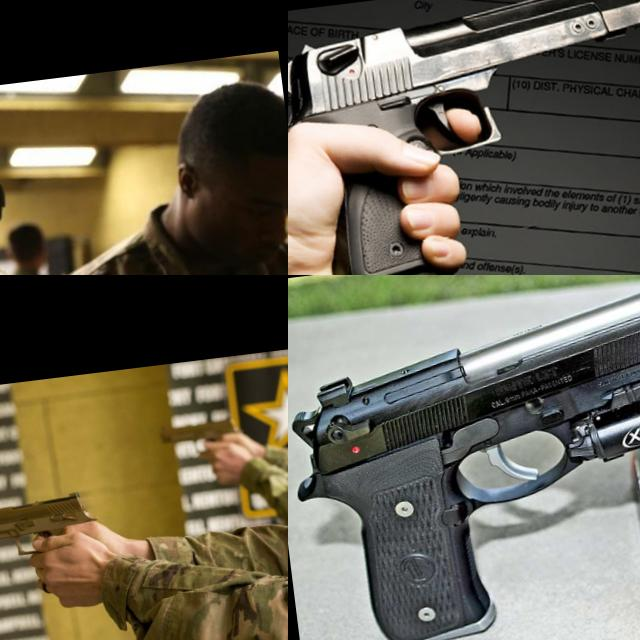handgun: (288, 275, 640, 640), (288, 0, 640, 275), (0, 484, 105, 564), (0, 171, 65, 275)
